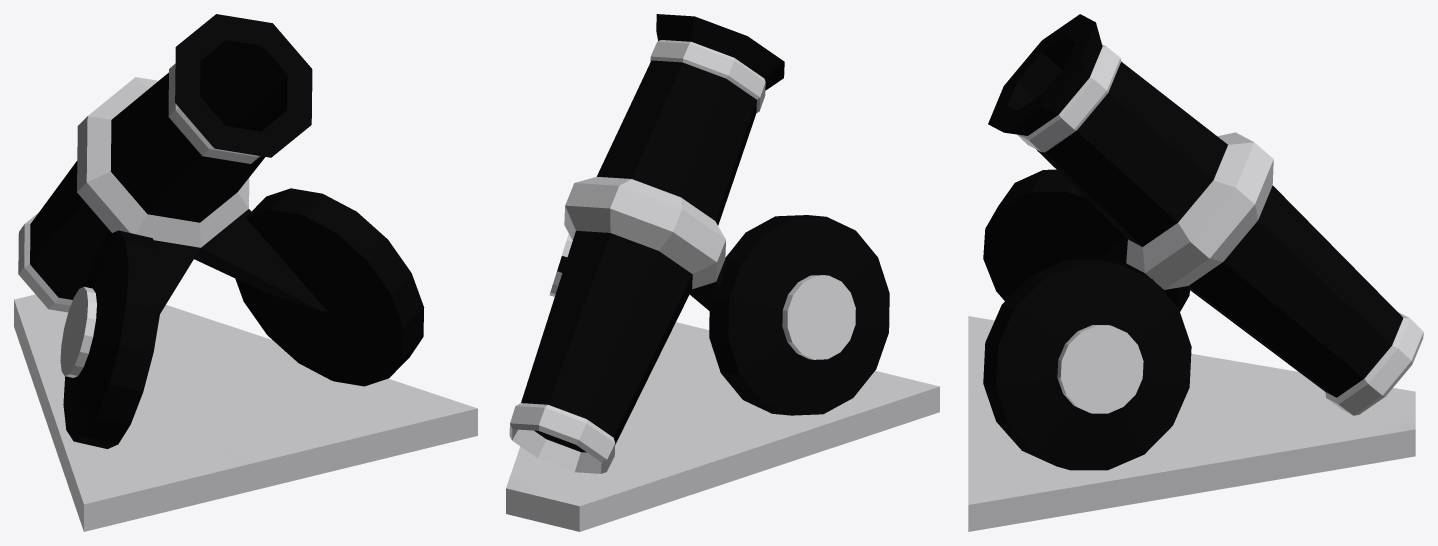
Rendered from Mortar_Tower.fbx.
The picture shows the model from 3 angles, left to right: view 1: azimuth 30°, elevation 25°; view 2: azimuth 150°, elevation 25°; view 3: azimuth 270°, elevation 25°; orthographic projection. The views are drawn at different scales.
Visible parts, largest first — view 1: Circle; view 2: Circle; view 3: Circle.
Part boxes in pixels (<box>): Circle: <box>14,14,477,531</box>; Circle: <box>506,14,939,531</box>; Circle: <box>968,14,1423,531</box>.
Size of the model in its own units: 593 by 608 by 604.
1 material, 1 textured.
